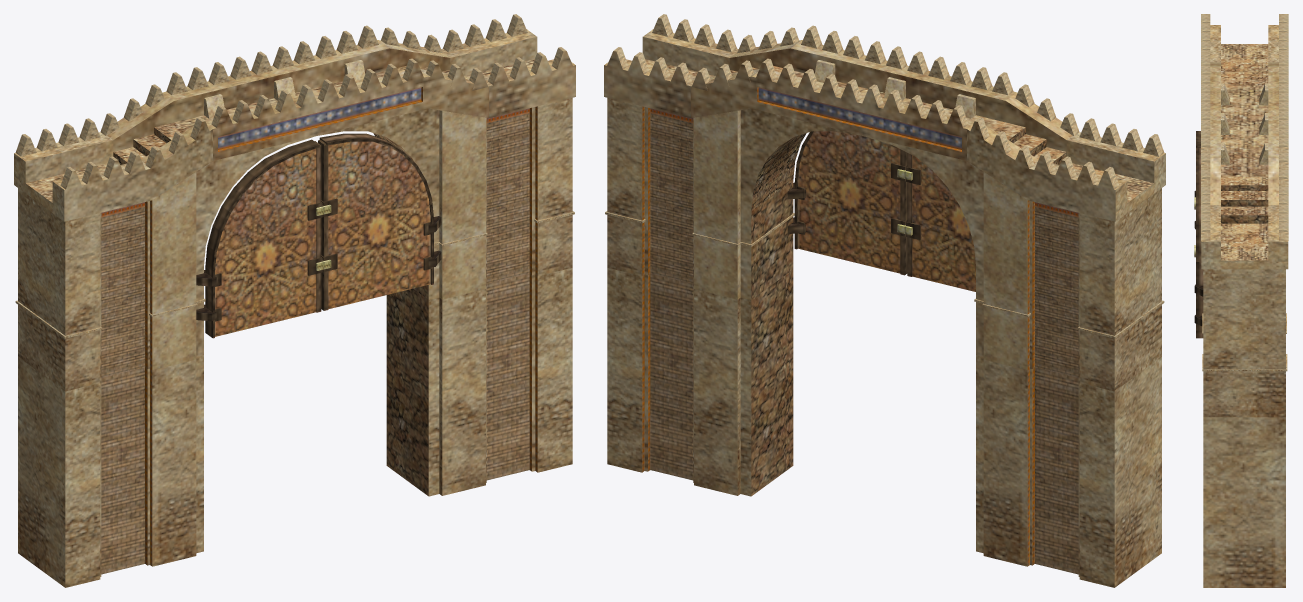
File: s_persians_wall_gate.glb
The picture shows the model from 3 angles, left to right: view 1: azimuth 30°, elevation 25°; view 2: azimuth 150°, elevation 25°; view 3: azimuth 270°, elevation 25°; orthographic projection. The views are drawn at different scales.
Parts seen in each view (by area): view 1: s_persians_wall_gate_part0; view 2: s_persians_wall_gate_part0; view 3: s_persians_wall_gate_part0.
Part boxes in pixels (<box>): s_persians_wall_gate_part0: <box>14,14,575,587</box>; s_persians_wall_gate_part0: <box>604,14,1165,587</box>; s_persians_wall_gate_part0: <box>1194,14,1288,587</box>.
Bounding box in the file's own units: 9.1 × 7.5 × 1.67.
1 material, 1 textured.
